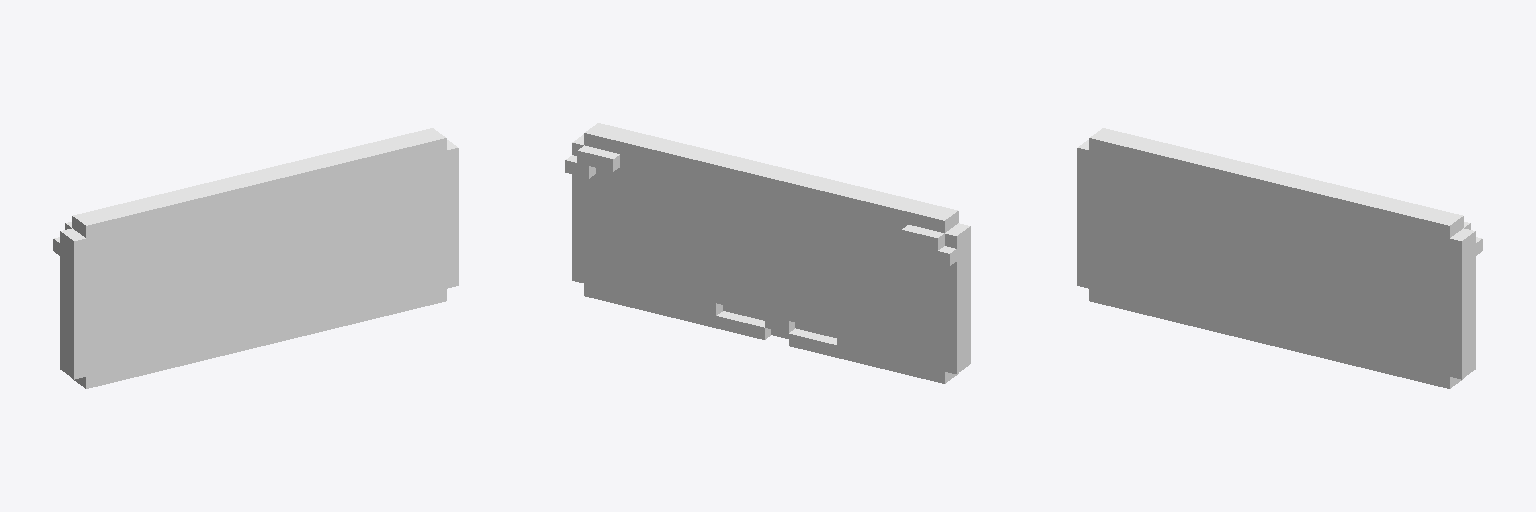
File: switch.obj
3 renders of one model, left to right at view 1: azimuth 30°, elevation 25°; view 2: azimuth 150°, elevation 25°; view 3: azimuth 330°, elevation 25°, orthographic.
Parts seen in each view (by area): view 1: object 1; view 2: object 1; view 3: object 1.
Part boxes in pixels (bbox=[...]): object 1: bbox=[53, 128, 458, 388]; object 1: bbox=[565, 123, 970, 383]; object 1: bbox=[1077, 128, 1482, 388].
Bounding box in the file's own units: 3.2 × 1.3 × 0.3.